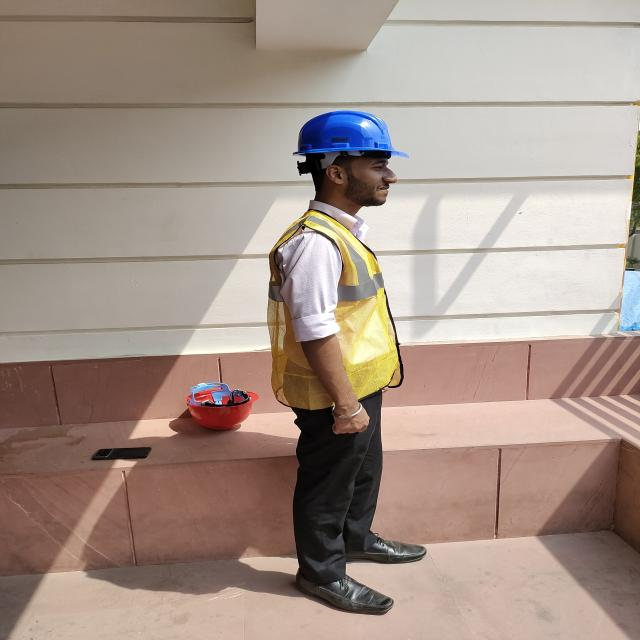safe: (270, 113, 404, 609)
